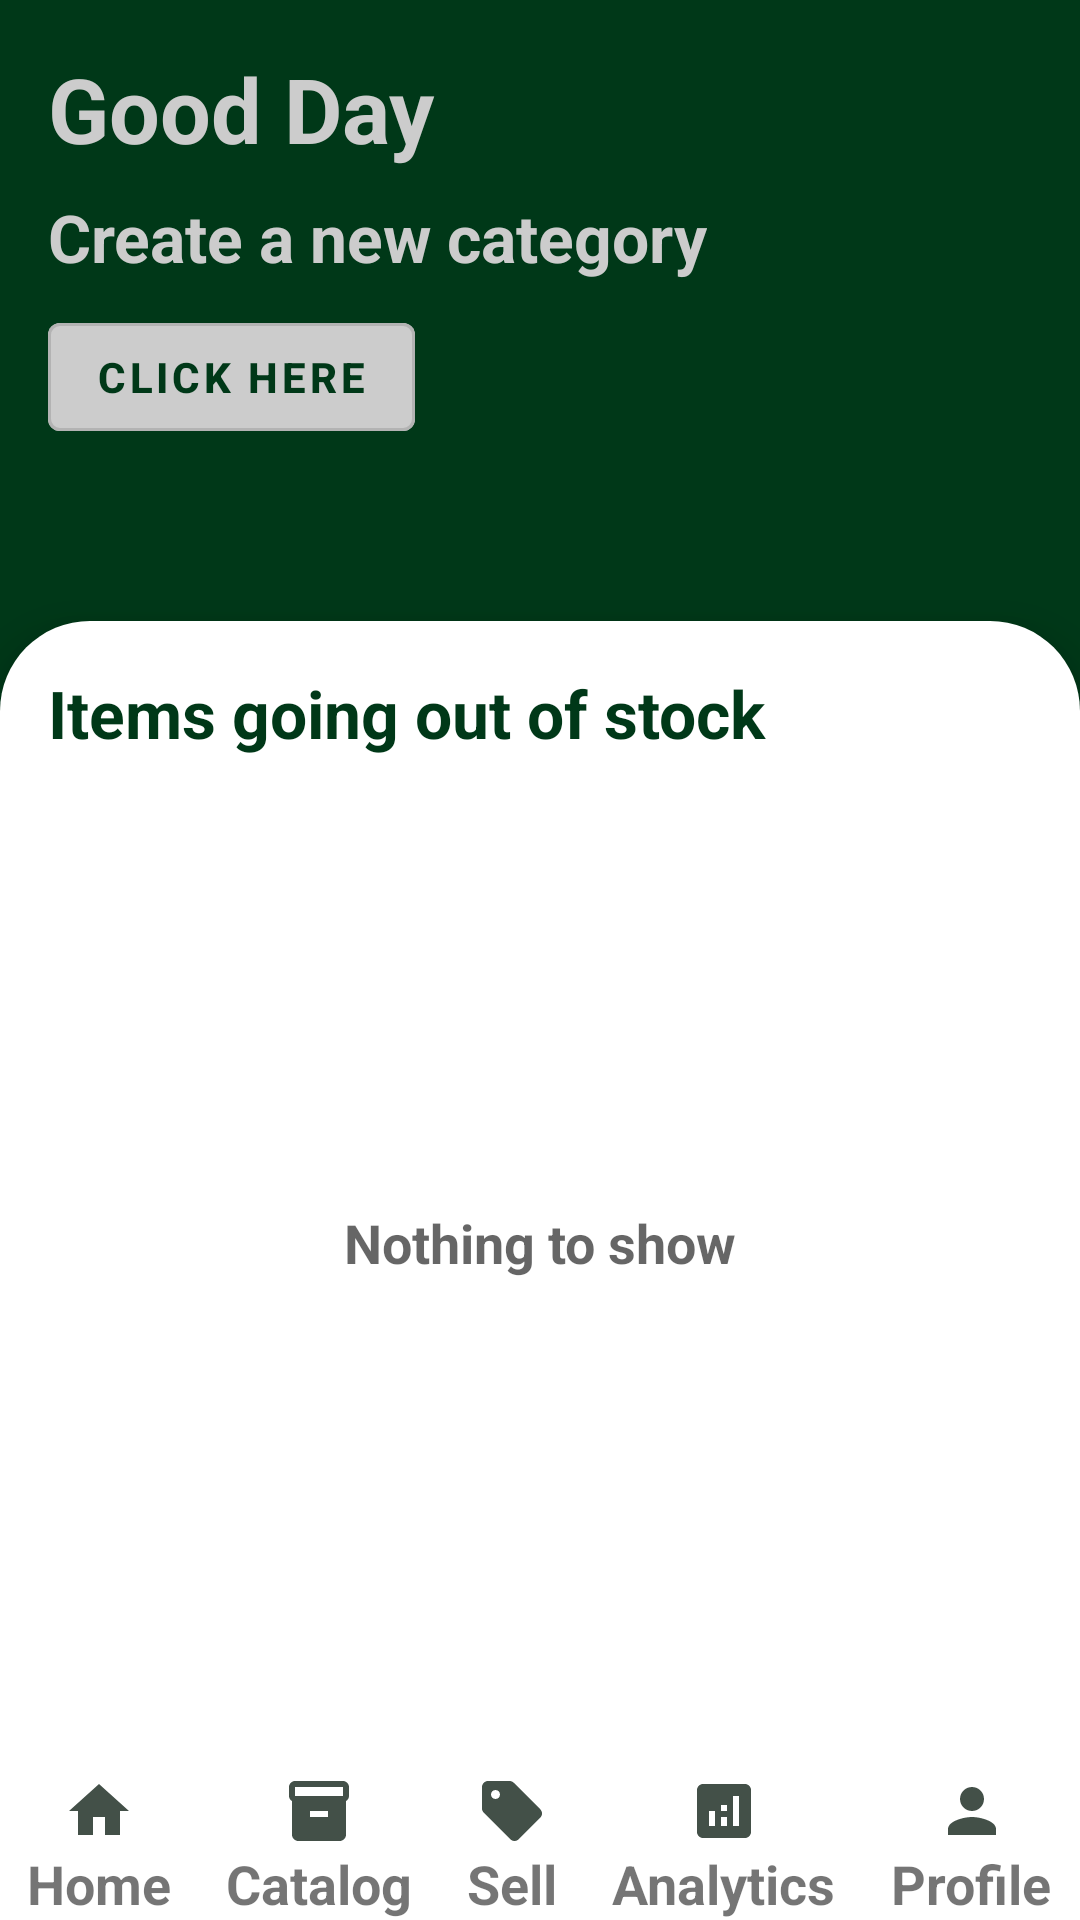

Point at icon controls on the screen. Image size 1080 × 1920, points as (x,y).
inventory: (319,1811)
